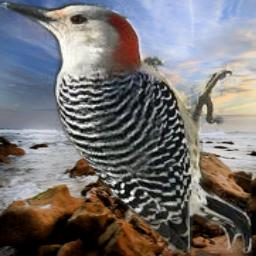Woodpecker: (0, 0, 252, 253)
